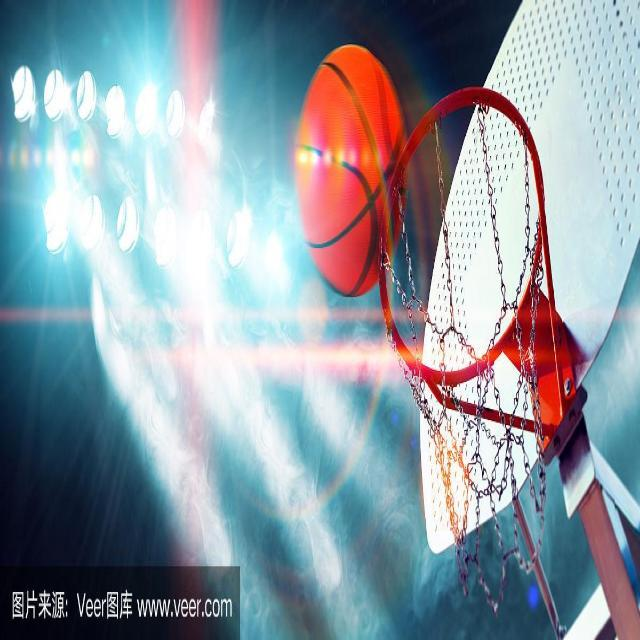rim: (296, 42, 409, 292)
